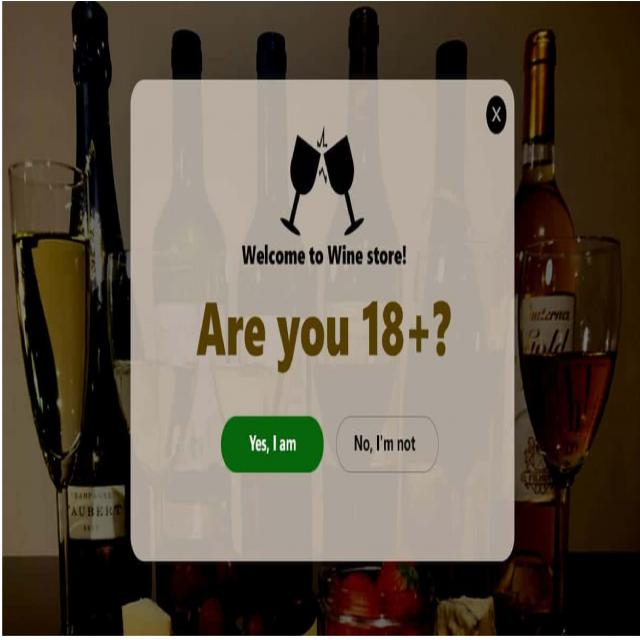sneaking: (206, 404, 444, 486)
